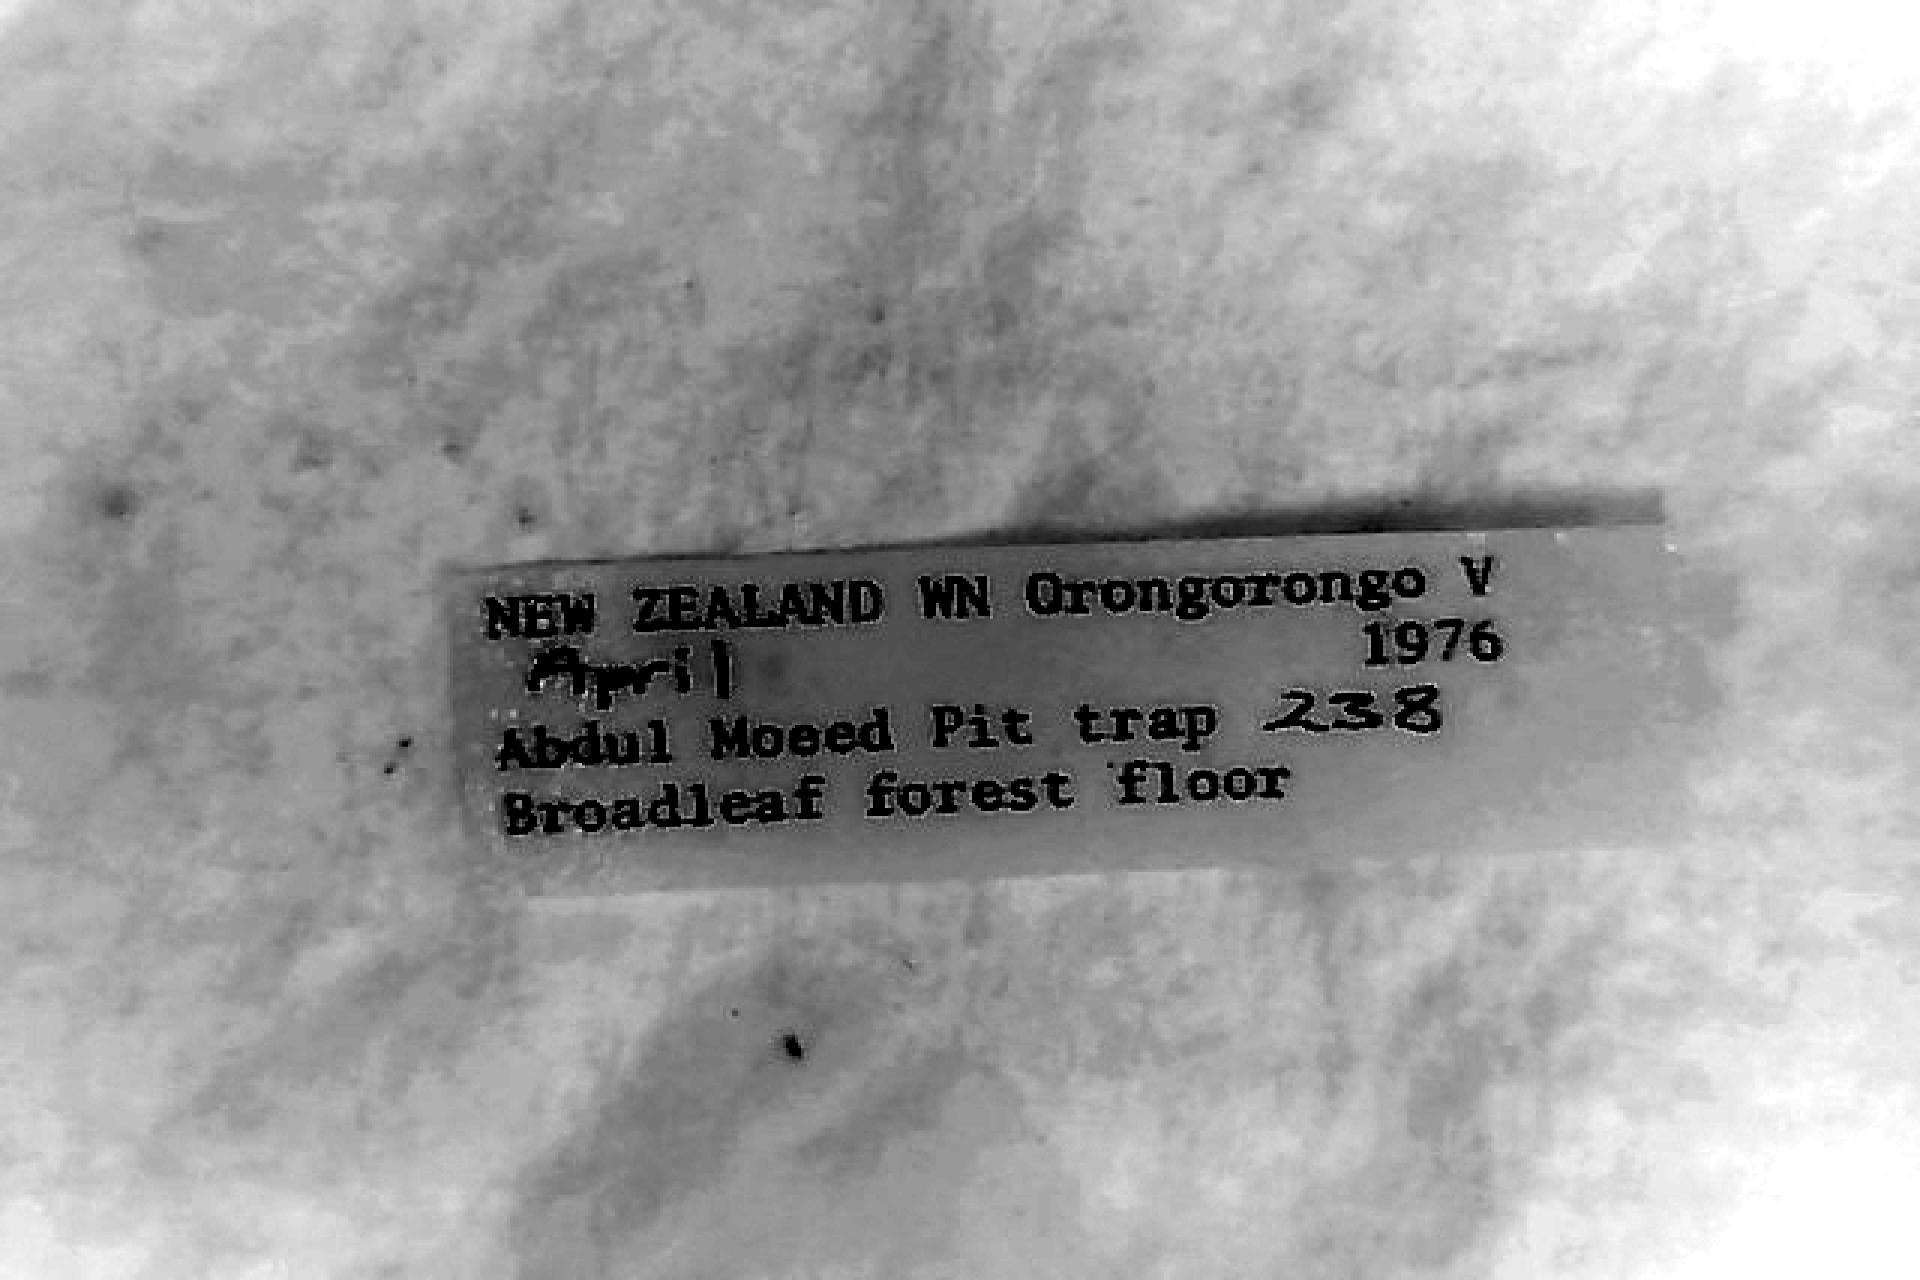mixed_label: (458, 528, 1672, 887)
